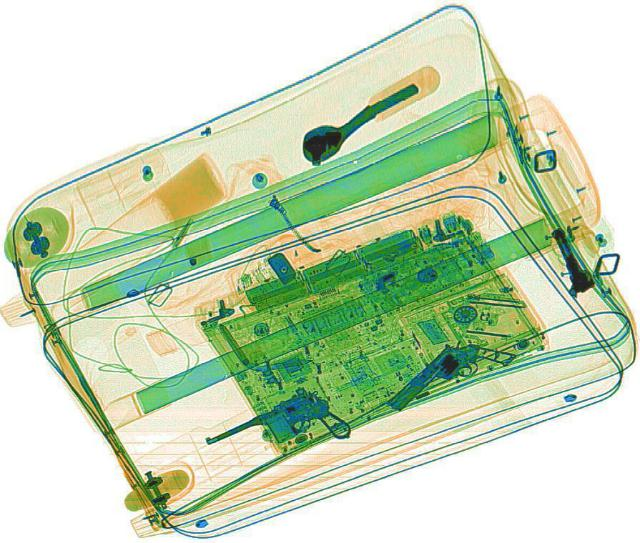Gun: (200, 377, 356, 487), (380, 322, 514, 432), (538, 221, 602, 298)
